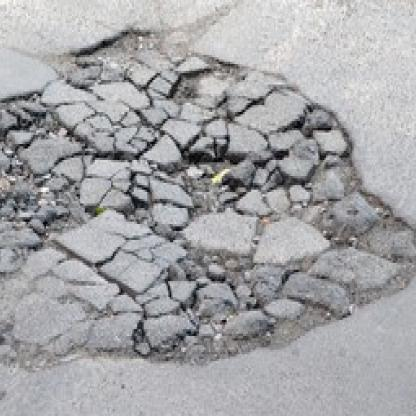pothole: (0, 23, 416, 368)
